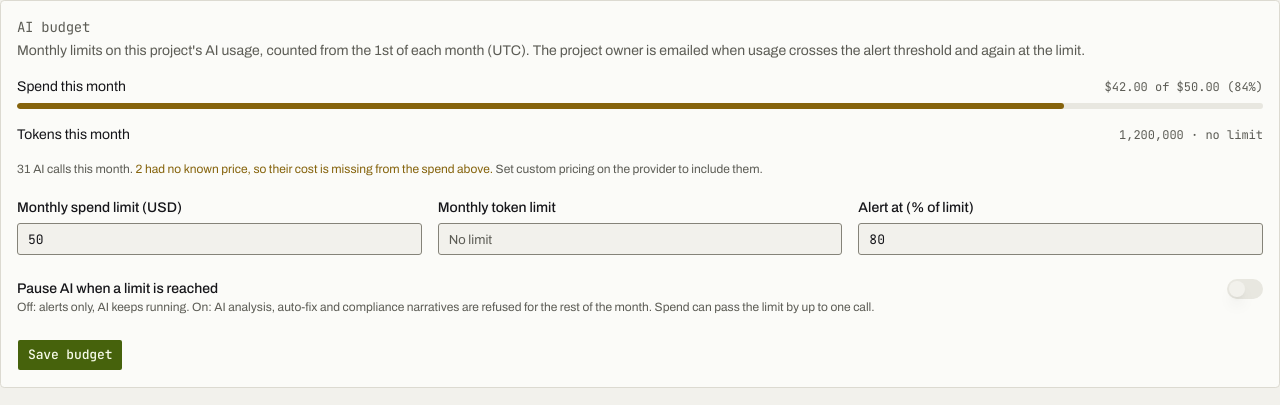
ProjectAiBudgetCard › an alert threshold outside 1-99 cannot be saved
Replace the text in the number field labelled "Alert at (% of limit)" with "100" at [1061, 239], box [858, 223, 1263, 255]
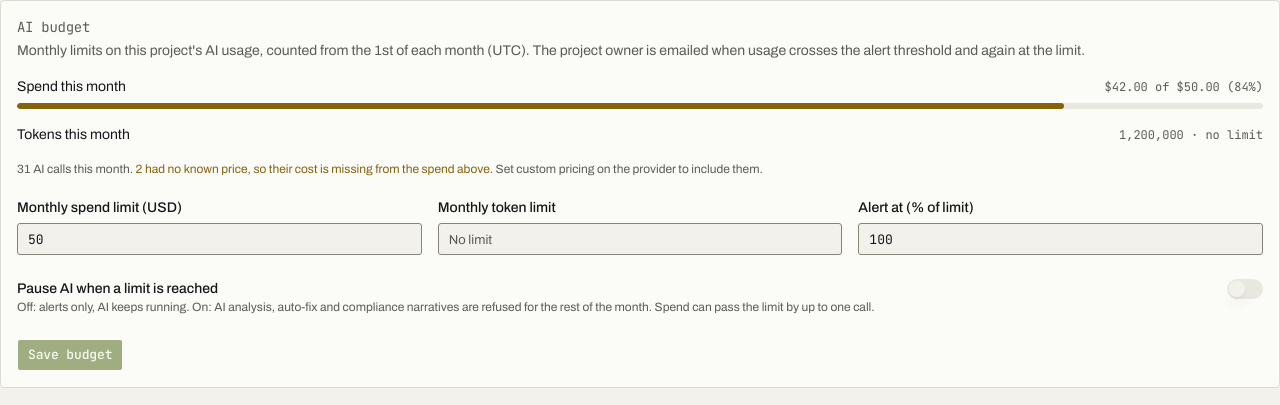
Result: the button "Save budget" is disabled at [17, 339, 123, 371]
